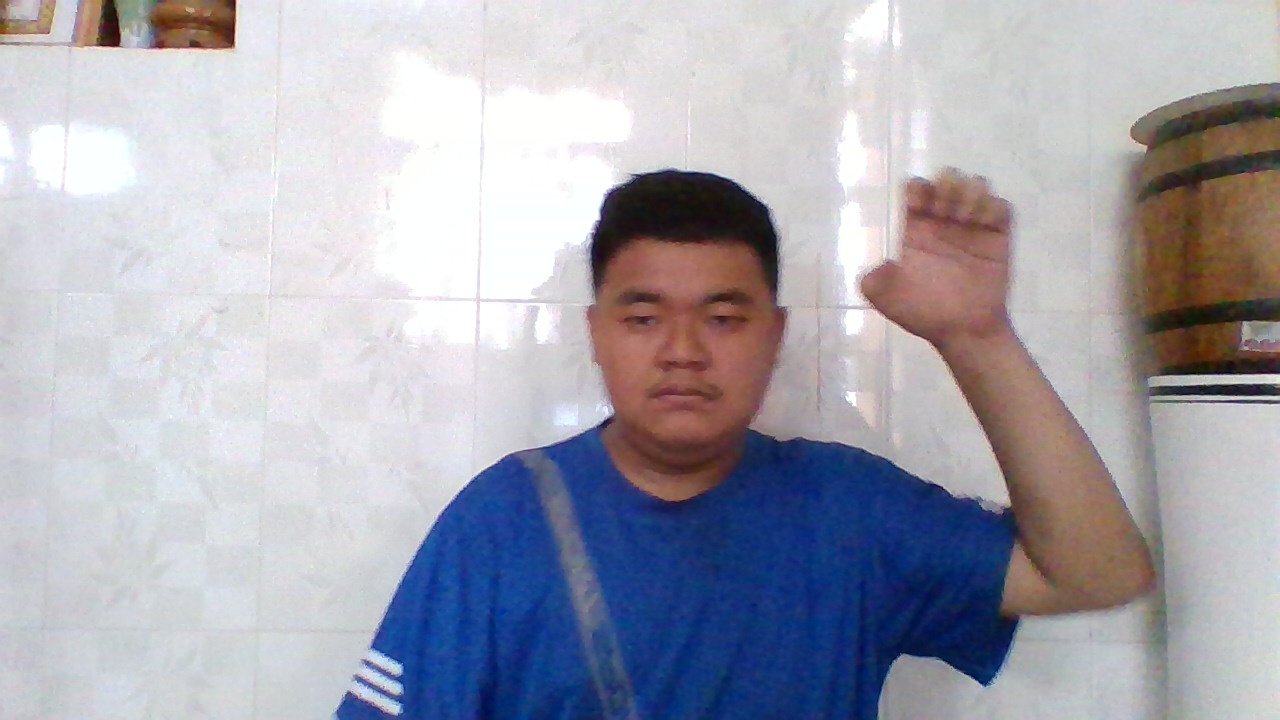E: (852, 163, 1018, 347)
